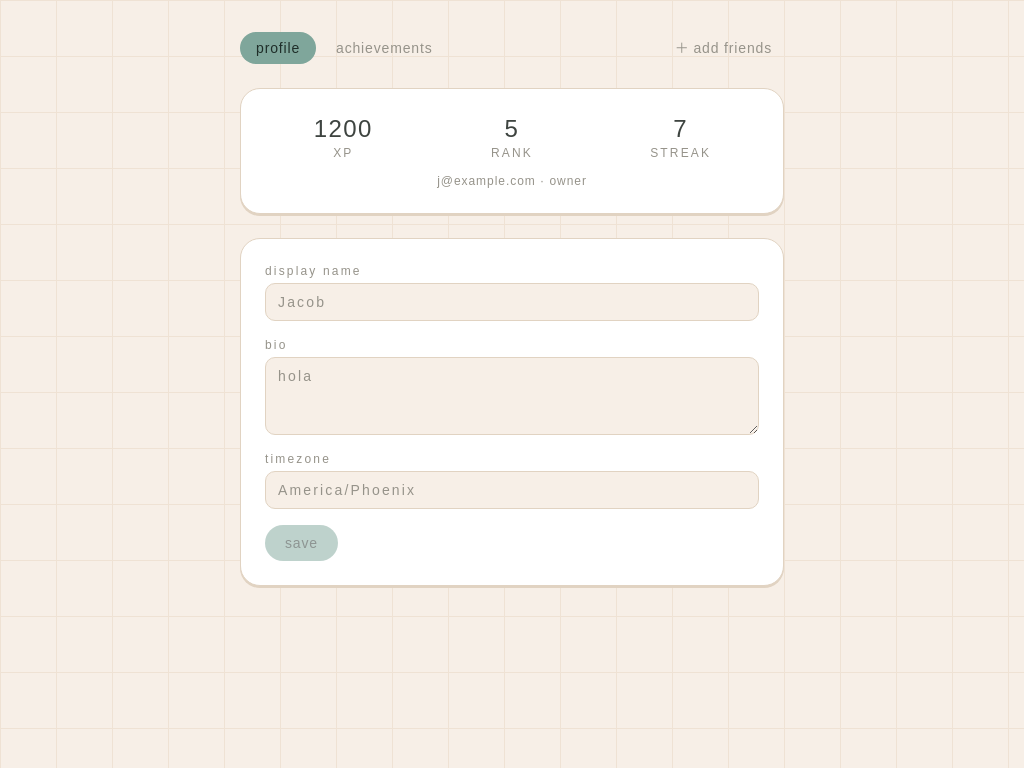
Test: ProfilePage tabs › switches to achievements (coming soon, no fabricated data)
Expected: the field showing "Jacob" is shown, [265,283,759,321]
Click the tab "achievements". click: (384, 48)
box: [320,32,448,64]
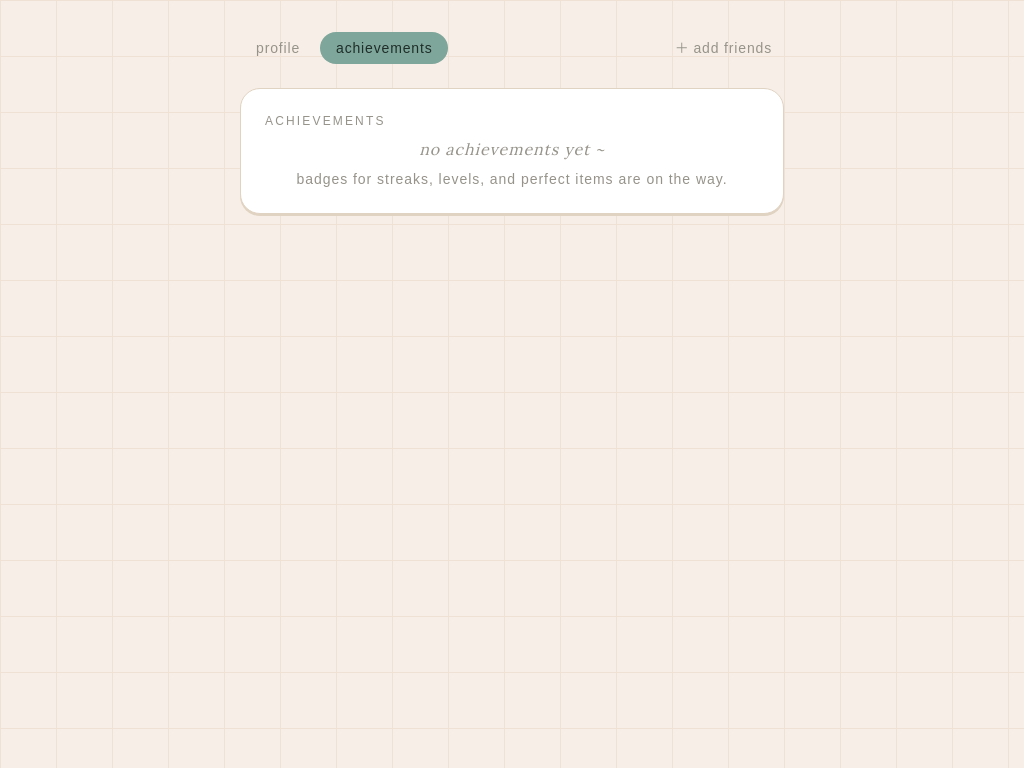
Result: the text "no achievements yet ~" is shown at [419,139,605,159]
